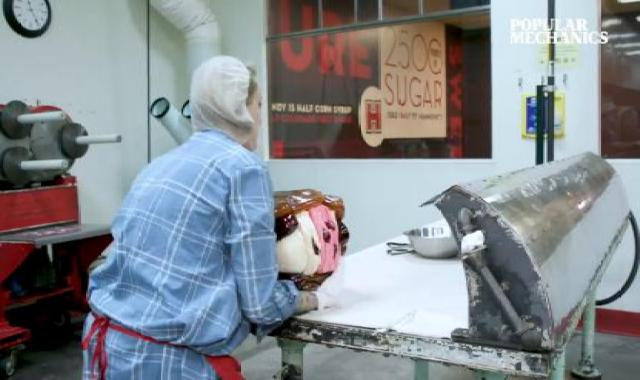hairnet: (187, 53, 262, 140)
